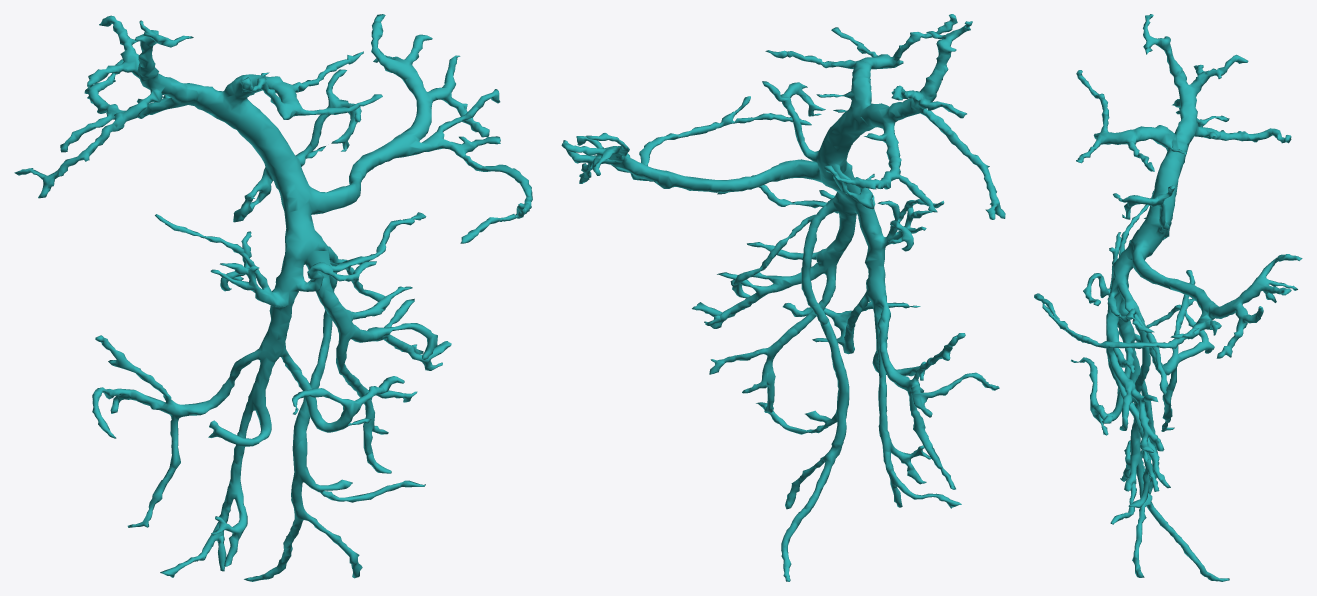
The picture shows the model from 3 angles, left to right: view 1: azimuth 30°, elevation 25°; view 2: azimuth 150°, elevation 25°; view 3: azimuth 270°, elevation 25°; orthographic projection. The views are drawn at different scales.
Visible parts, largest first — view 1: Polygonal_Model_4_Triangles_0; view 2: Polygonal_Model_4_Triangles_0; view 3: Polygonal_Model_4_Triangles_0.
Part boxes in pixels (left/top/right/bottom): Polygonal_Model_4_Triangles_0: left=14, top=14, right=532, bottom=581; Polygonal_Model_4_Triangles_0: left=561, top=14, right=1005, bottom=581; Polygonal_Model_4_Triangles_0: left=1034, top=14, right=1302, bottom=581.
Bounding box in the file's own units: 9.41 × 11.88 × 5.73.
